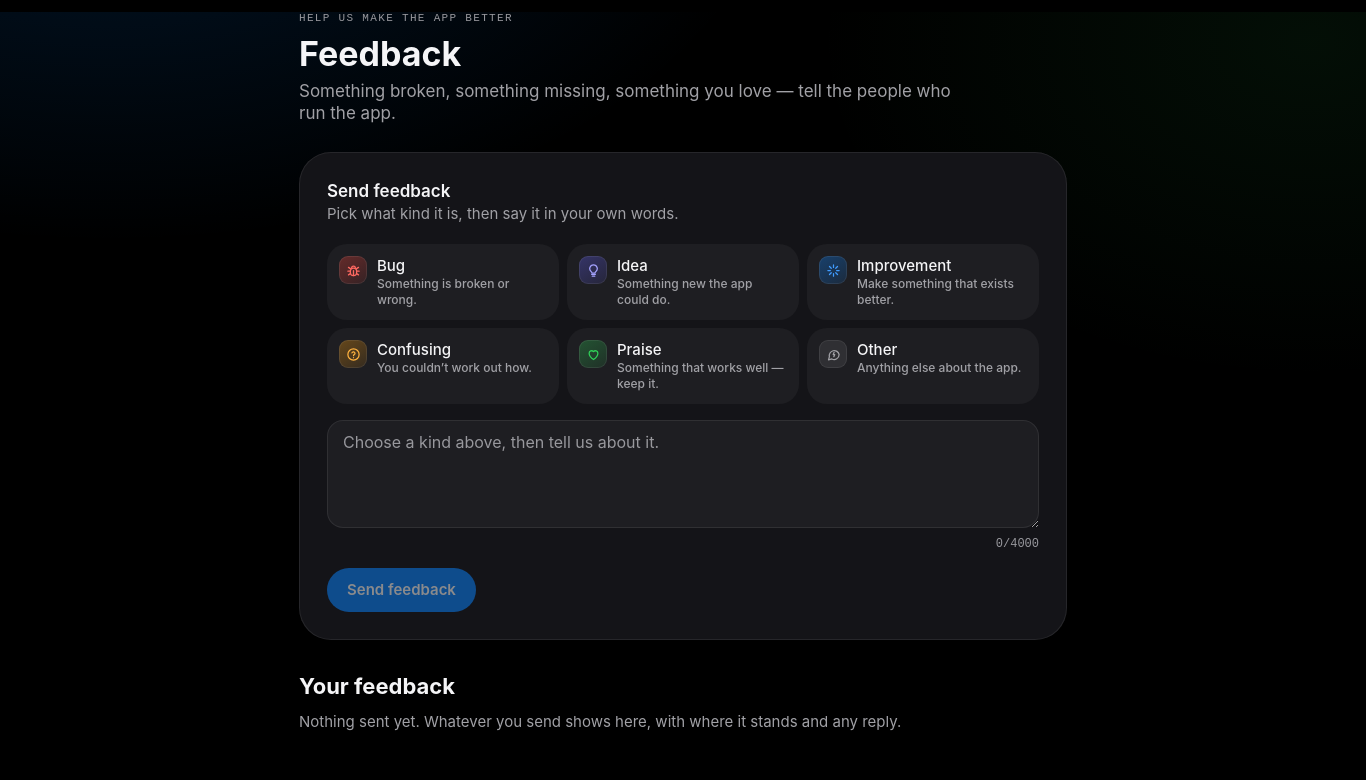
Scenario: sending feedback › sends the kind and the words through the database’s own function, then says thank you
The image size is (1366, 780).
Click the radio button labelled "Idea Something new the app could do.". click: [683, 282]
box: [567,244,799,320]
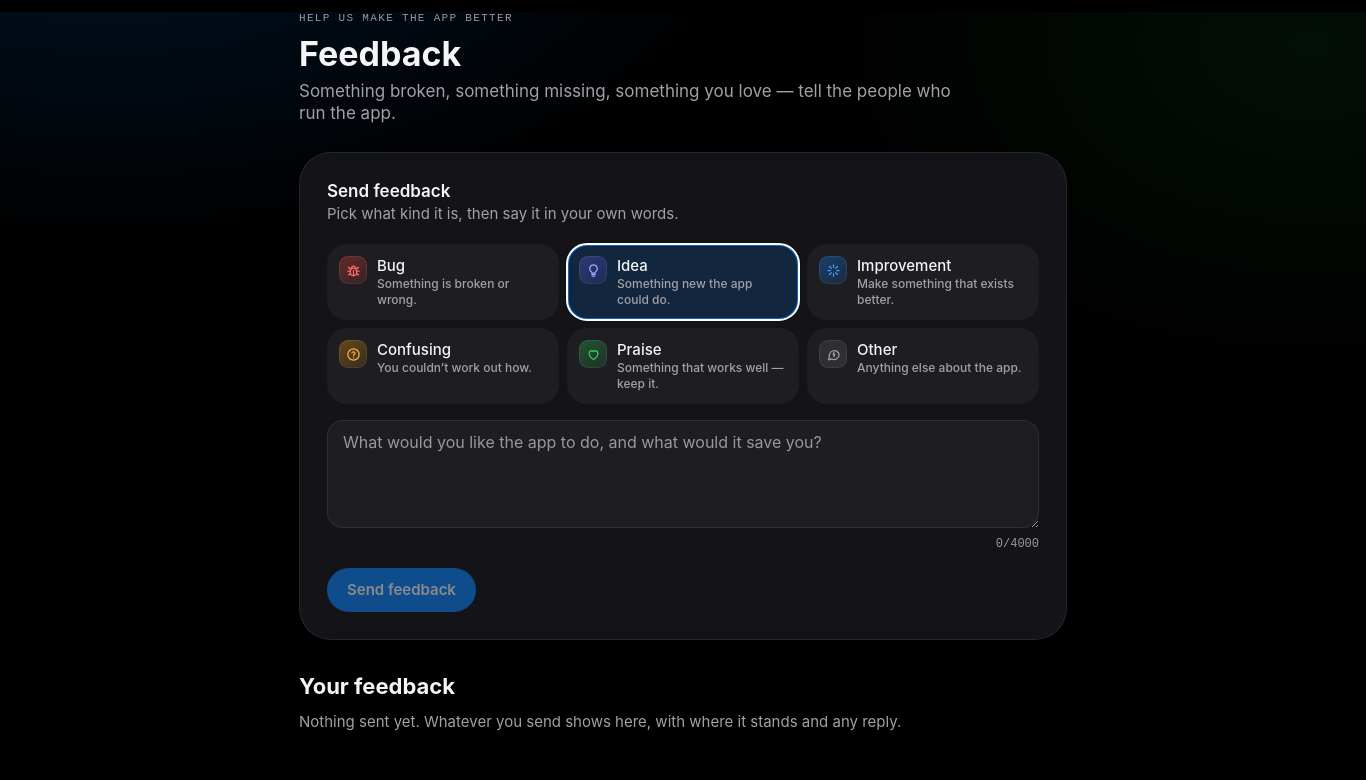
Type "  Dark mode for the rota  " into the text box named "Your feedback". click: [683, 474]
box: [327,420,1039,528]
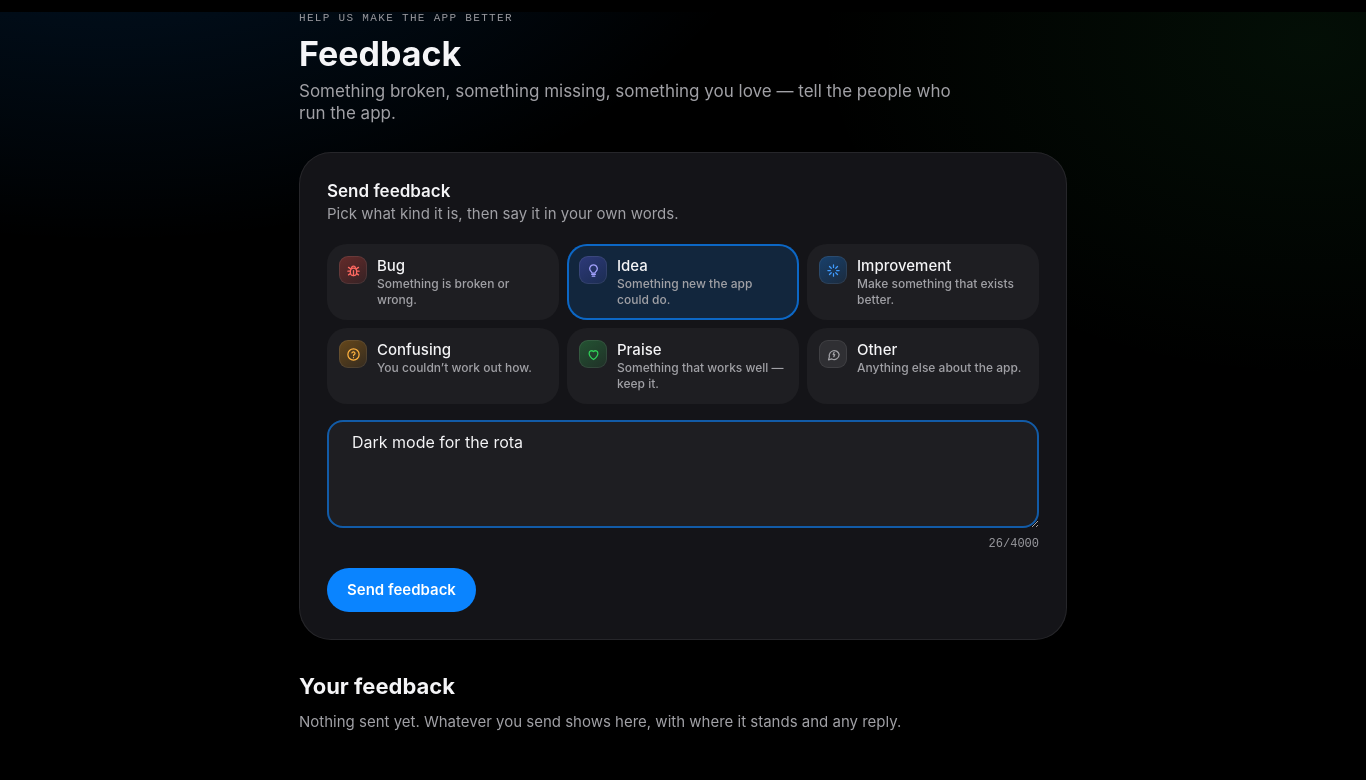
Click the button "Send feedback". click: [401, 590]
box: [327,568,476,612]
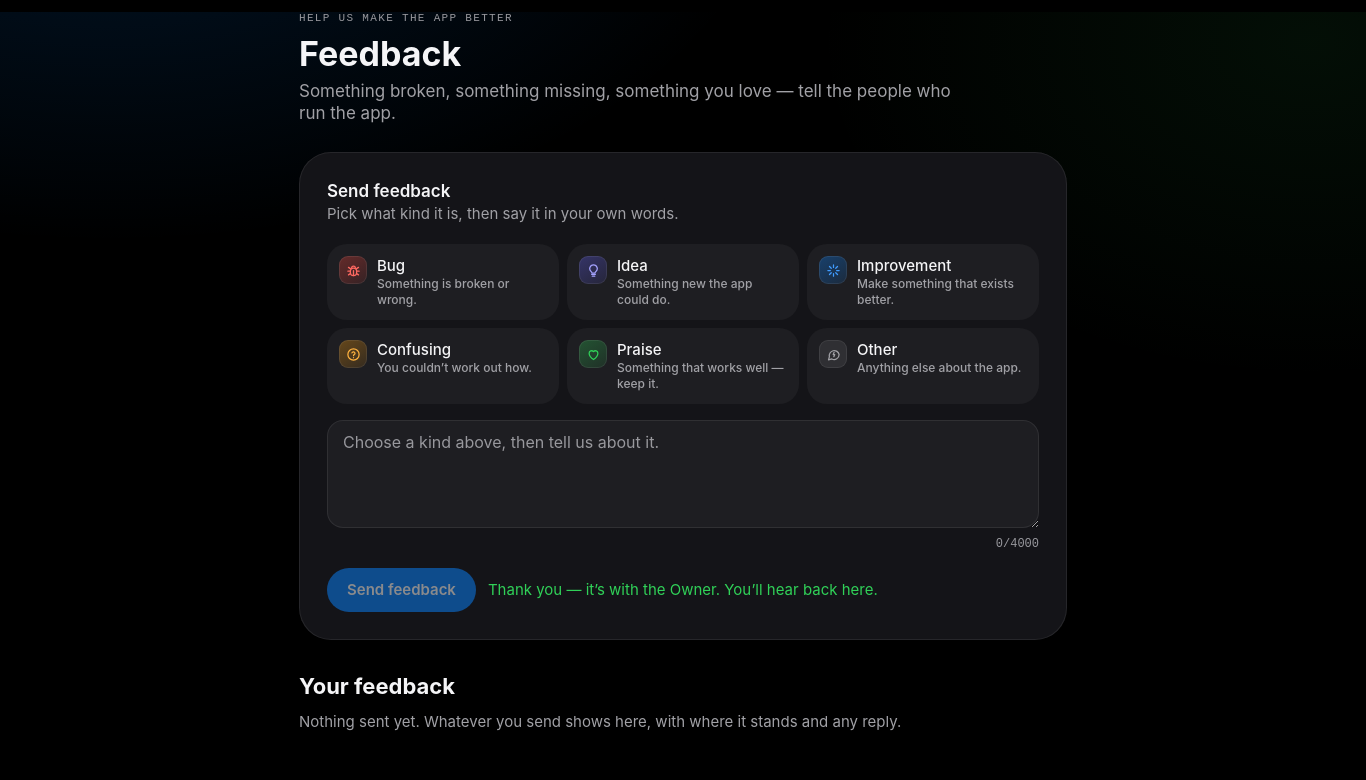
Expected: the text "Thank you — it’s with the Owner. You’ll hear back here." is shown, [488,580,878,600]
